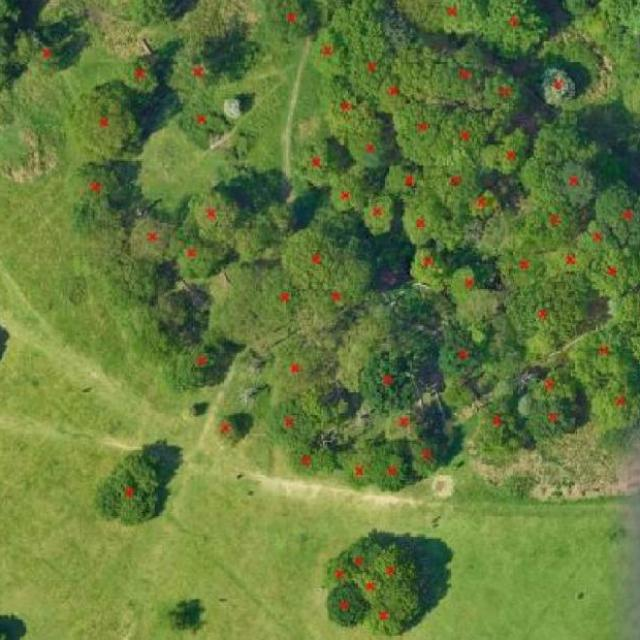tree: (85, 438, 172, 536), (494, 280, 598, 356), (66, 79, 153, 164), (210, 270, 306, 342), (256, 331, 339, 412), (160, 30, 243, 107), (278, 216, 356, 290), (468, 389, 528, 483), (477, 0, 558, 69), (355, 344, 426, 421), (386, 85, 449, 170), (374, 543, 436, 627), (54, 160, 133, 221), (232, 200, 300, 270), (247, 0, 329, 58), (564, 325, 640, 386), (162, 224, 235, 287), (434, 316, 496, 389), (313, 85, 387, 146), (308, 260, 376, 325), (580, 372, 640, 441), (255, 396, 332, 449), (428, 42, 493, 104), (15, 28, 80, 89), (432, 99, 498, 159), (589, 179, 640, 256), (477, 61, 533, 129), (289, 133, 352, 193), (476, 119, 536, 182), (182, 190, 248, 247), (424, 155, 486, 215), (336, 0, 394, 63), (342, 40, 397, 106), (170, 100, 233, 154), (511, 360, 586, 405), (583, 246, 640, 304), (117, 46, 164, 116), (490, 237, 552, 290), (514, 402, 585, 448), (522, 206, 586, 257), (404, 232, 453, 298), (371, 434, 418, 502), (122, 210, 180, 263), (169, 340, 227, 392), (401, 190, 453, 248), (116, 0, 210, 31), (282, 439, 342, 486), (318, 164, 367, 220), (440, 257, 493, 308), (534, 113, 589, 162), (424, 0, 488, 40), (613, 0, 640, 91), (604, 276, 640, 341), (162, 594, 216, 637), (383, 157, 429, 207), (557, 164, 602, 214), (339, 527, 386, 574), (325, 587, 371, 635), (359, 594, 407, 640), (304, 24, 339, 84), (389, 0, 443, 37), (548, 238, 592, 283), (378, 406, 431, 442), (340, 446, 378, 496), (537, 69, 581, 112), (405, 439, 449, 480), (364, 192, 398, 243), (208, 410, 246, 454), (315, 552, 353, 588), (353, 564, 388, 602), (0, 57, 29, 102), (512, 384, 538, 425), (553, 0, 595, 25), (217, 91, 244, 129), (0, 0, 34, 29), (29, 620, 30, 622)
